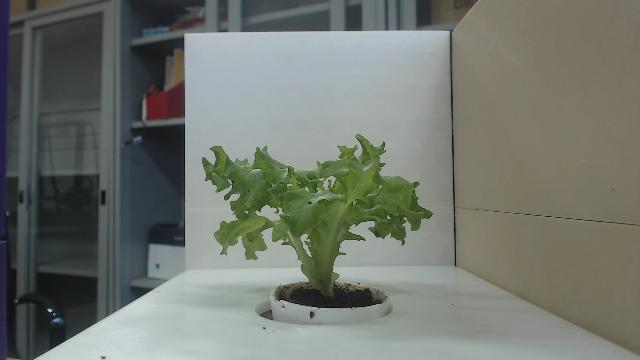Vegetative Stage: (202, 131, 434, 299)
